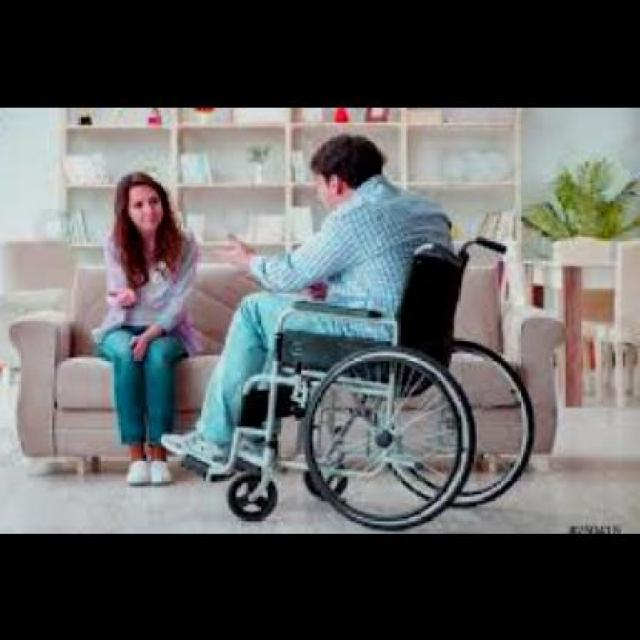wheelchairs: (199, 234, 549, 523)
